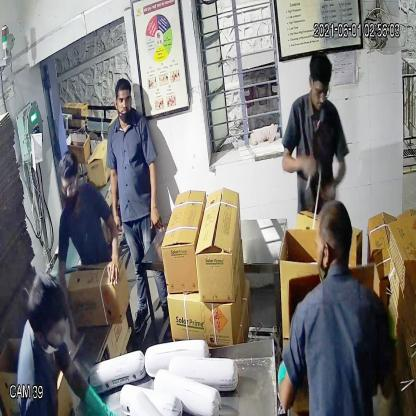goggles: (308, 78, 333, 103)
